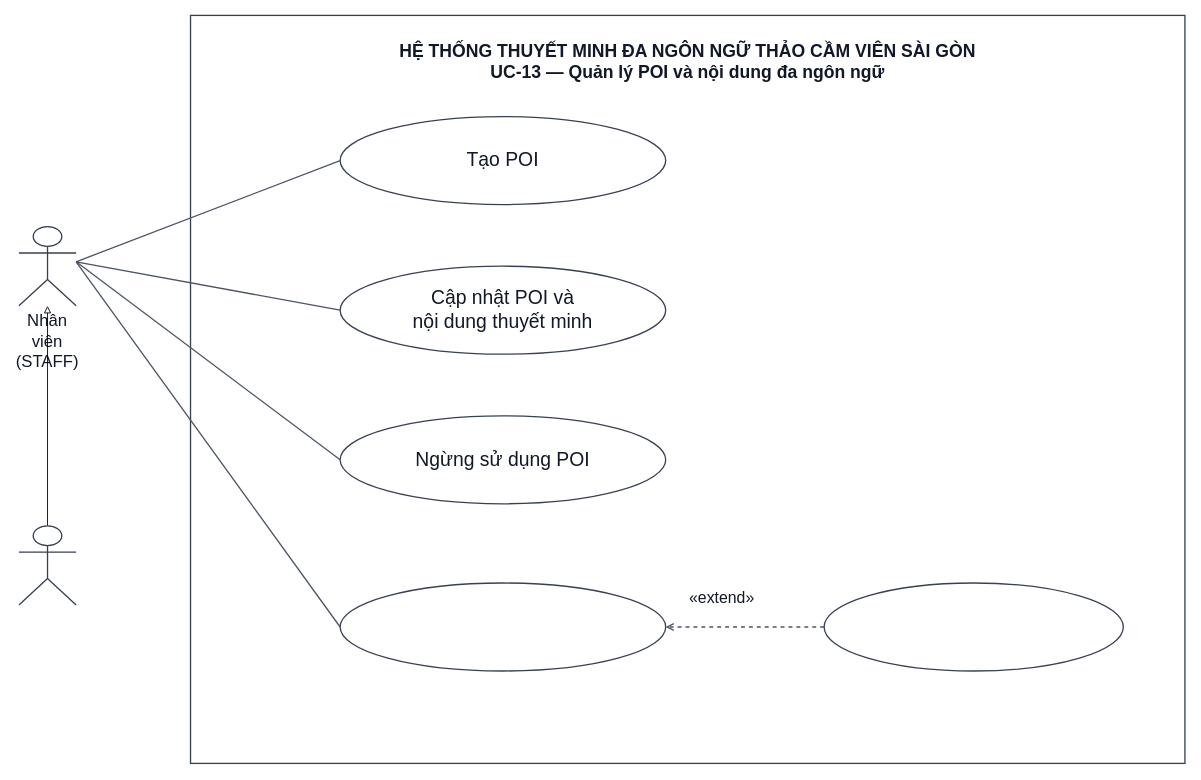
Image size: 1201x780. Some labels were removed from this diagram. The centre of each missing label's shape, as x and y in pixels:
"Quản trị viên (ADMIN)" goes at point 47,565.
"Xem trạng thái xử lý nội dung" goes at point 502,626.
"Yêu cầu xử lý lại tác vụ lỗi" goes at point 973,626.
